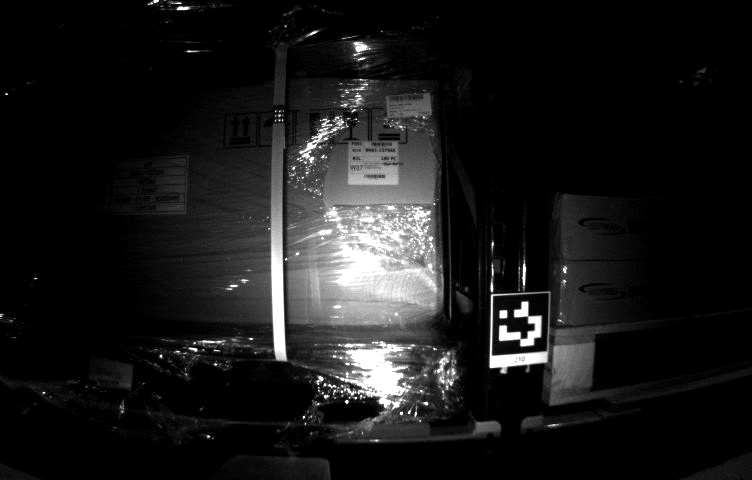True Barcode: (346, 140, 398, 187)
